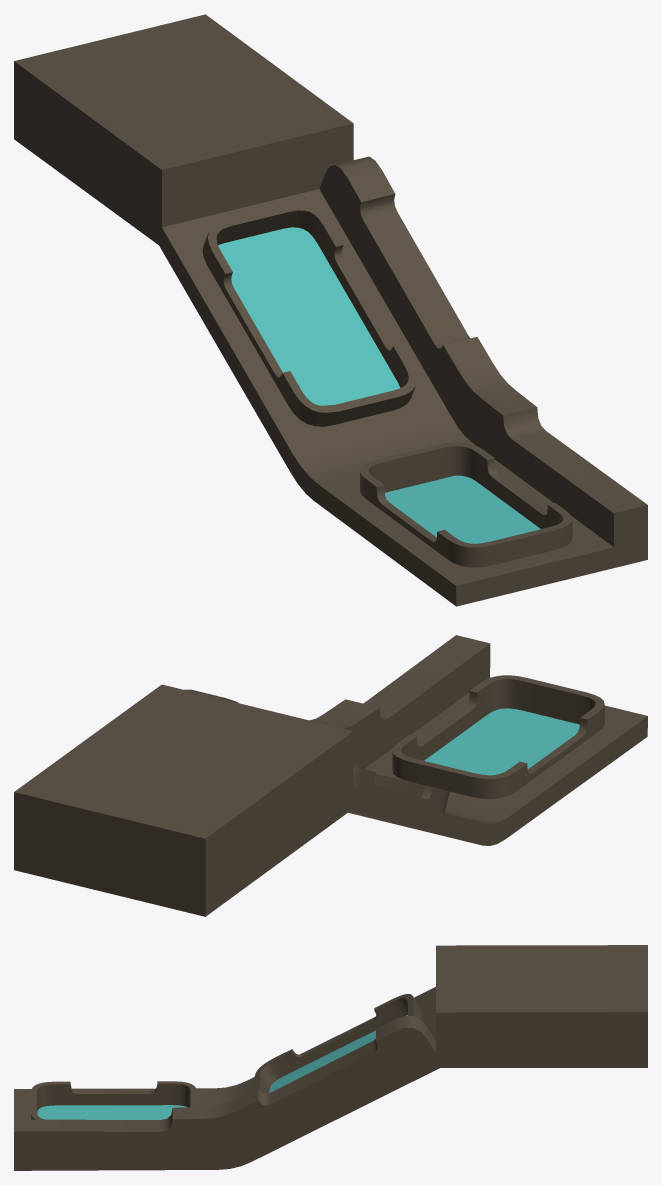
File: UnderFloor_B_Small.FBX
3 renders of one model, top to bottom at view 1: azimuth 30°, elevation 25°; view 2: azimuth 150°, elevation 25°; view 3: azimuth 270°, elevation 25°, orthographic. The views are drawn at different scales.
Visible parts, largest first — view 1: UnderFloor_B_Small, UnderFloor_B_Small_Glass; view 2: UnderFloor_B_Small, UnderFloor_B_Small_Glass; view 3: UnderFloor_B_Small, UnderFloor_B_Small_Glass.
Part boxes in pixels (left/top/right/bottom): UnderFloor_B_Small: left=14, top=14, right=647, bottom=606; UnderFloor_B_Small_Glass: left=218, top=227, right=540, bottom=543; UnderFloor_B_Small: left=14, top=635, right=647, bottom=916; UnderFloor_B_Small_Glass: left=424, top=708, right=579, bottom=775; UnderFloor_B_Small: left=14, top=945, right=647, bottom=1170; UnderFloor_B_Small_Glass: left=37, top=1015, right=407, bottom=1119.
Bounding box in the file's own units: 100 × 111 × 400.
